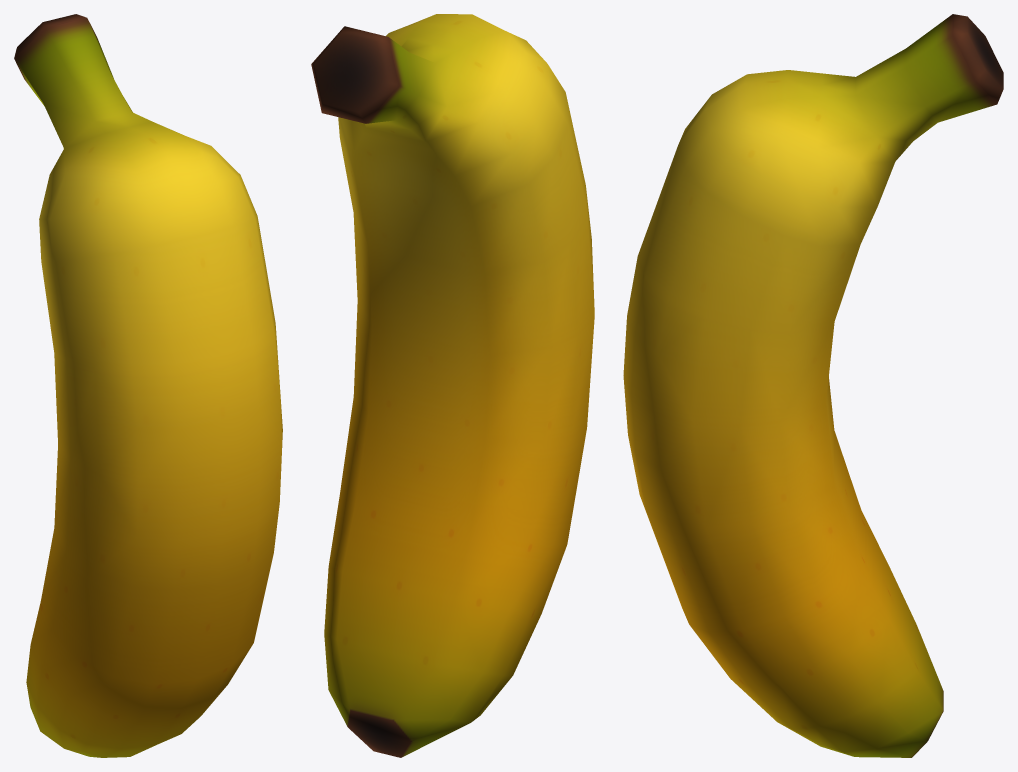
Rendered from Banana.fbx.
3 views of the same model, side by side, from view 1: azimuth 30°, elevation 25°; view 2: azimuth 150°, elevation 25°; view 3: azimuth 270°, elevation 25° (orthographic). The views are drawn at different scales.
Visible parts, largest first — view 1: Banana_Whole; view 2: Banana_Whole; view 3: Banana_Whole.
Part boxes in pixels (<box>): Banana_Whole: <box>14,14,282,757</box>; Banana_Whole: <box>311,14,594,757</box>; Banana_Whole: <box>623,14,1003,757</box>.
Bounding box in the file's own units: 1.04 × 3.54 × 1.68.
